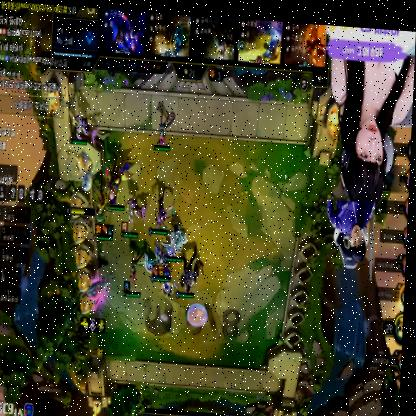streamer: (326, 42, 415, 203), (326, 192, 376, 257)
